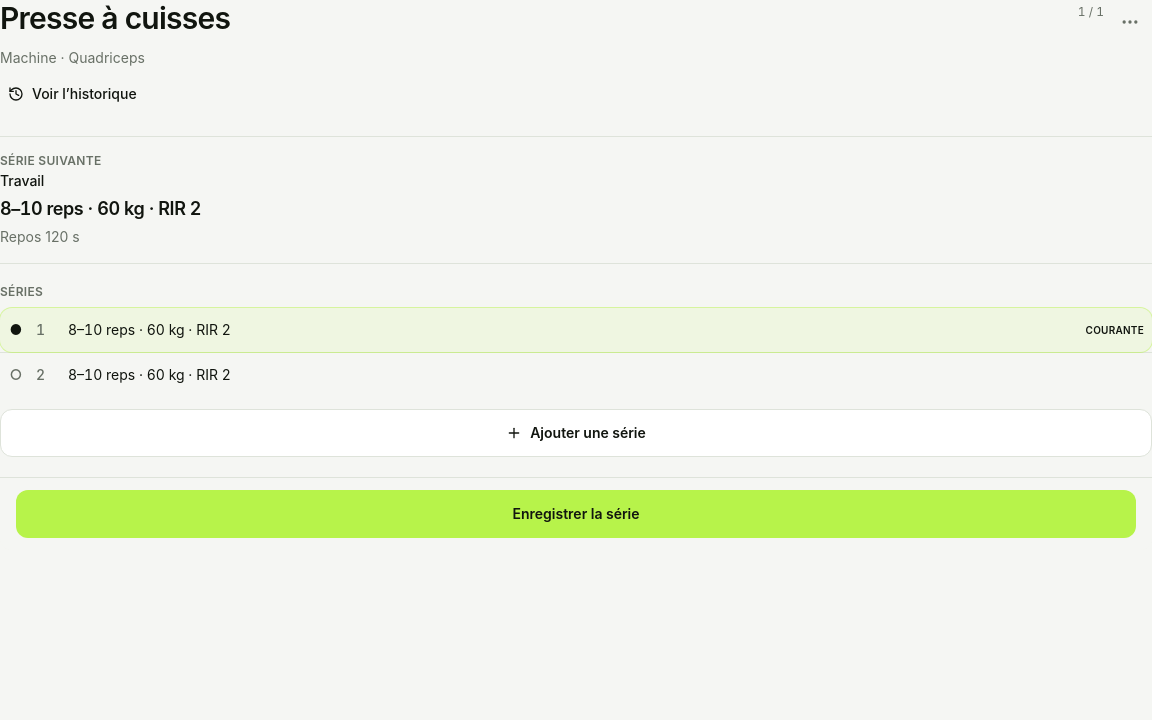
Test: Replace session exercise UI › ouvre le sheet depuis le menu et remplace l’exercice
Click the button named "Actions de l’exercice" at (1130, 22), box x1=1108 y1=0 x2=1151 y2=44
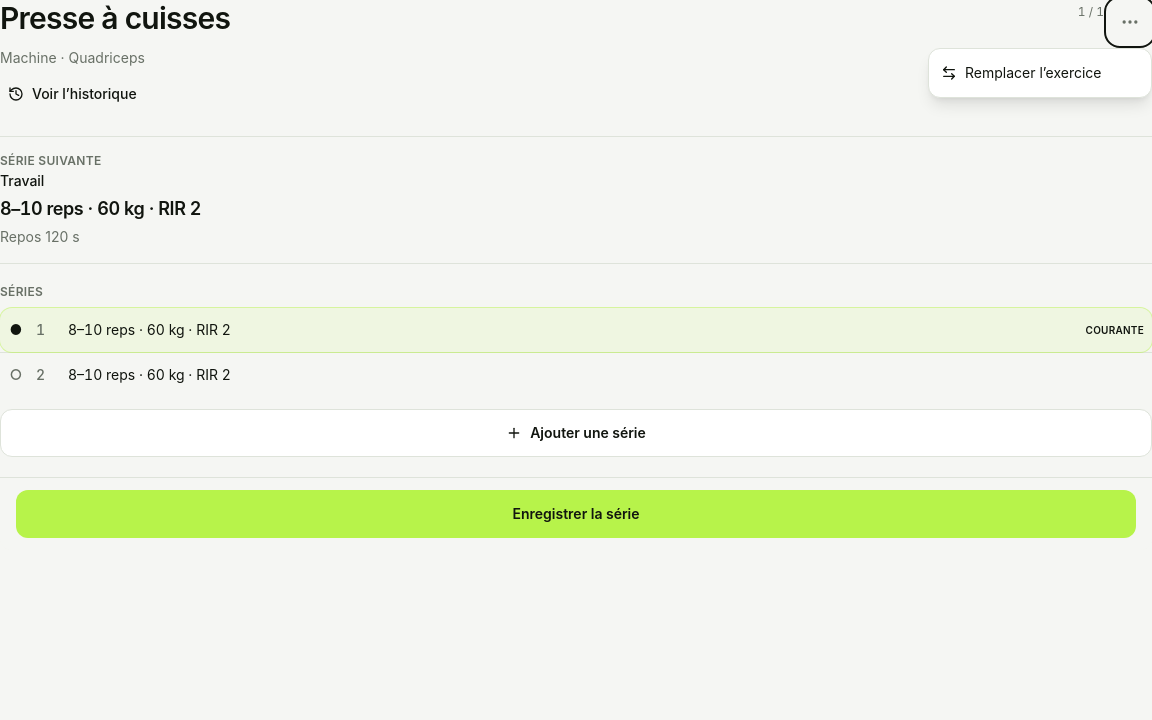
Click the menu item "Remplacer l’exercice" at (1040, 73), box x1=929 y1=53 x2=1151 y2=93
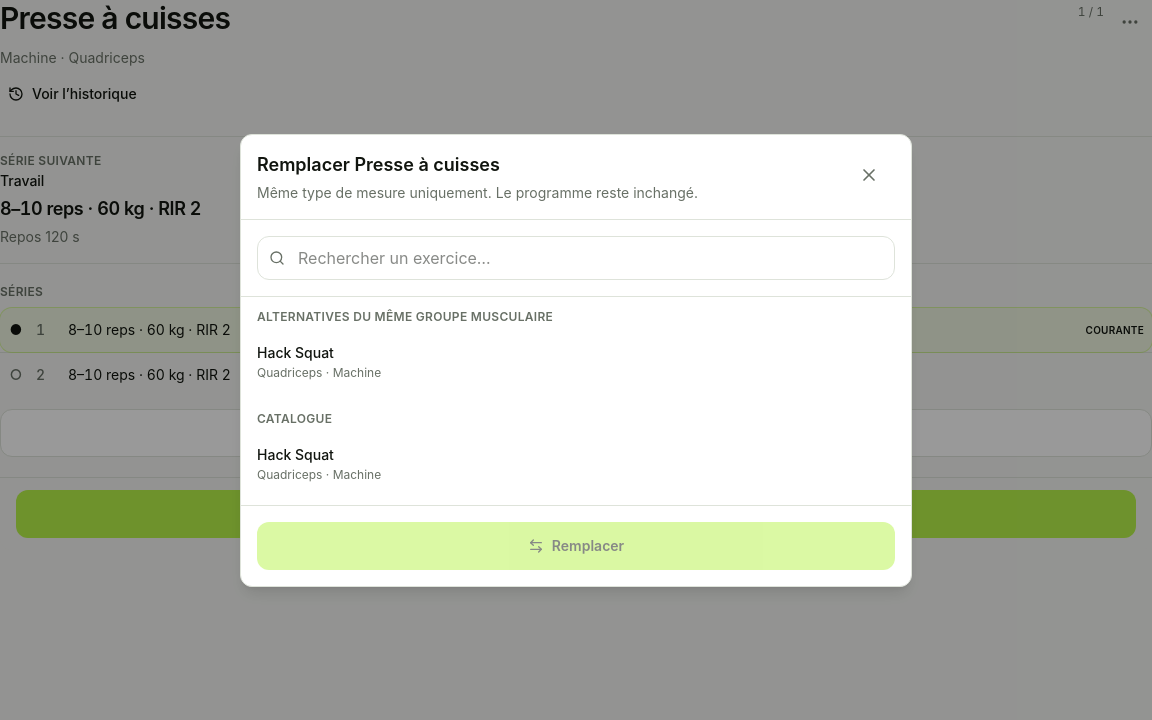
Result: the heading "Remplacer Presse à cuisses" is shown at x1=257 y1=154 x2=500 y2=174
Click the button "Hack Squat Quadriceps · Machine" below "Alternatives du même groupe musculaire" at (295, 352), box x1=257 y1=332 x2=895 y2=390
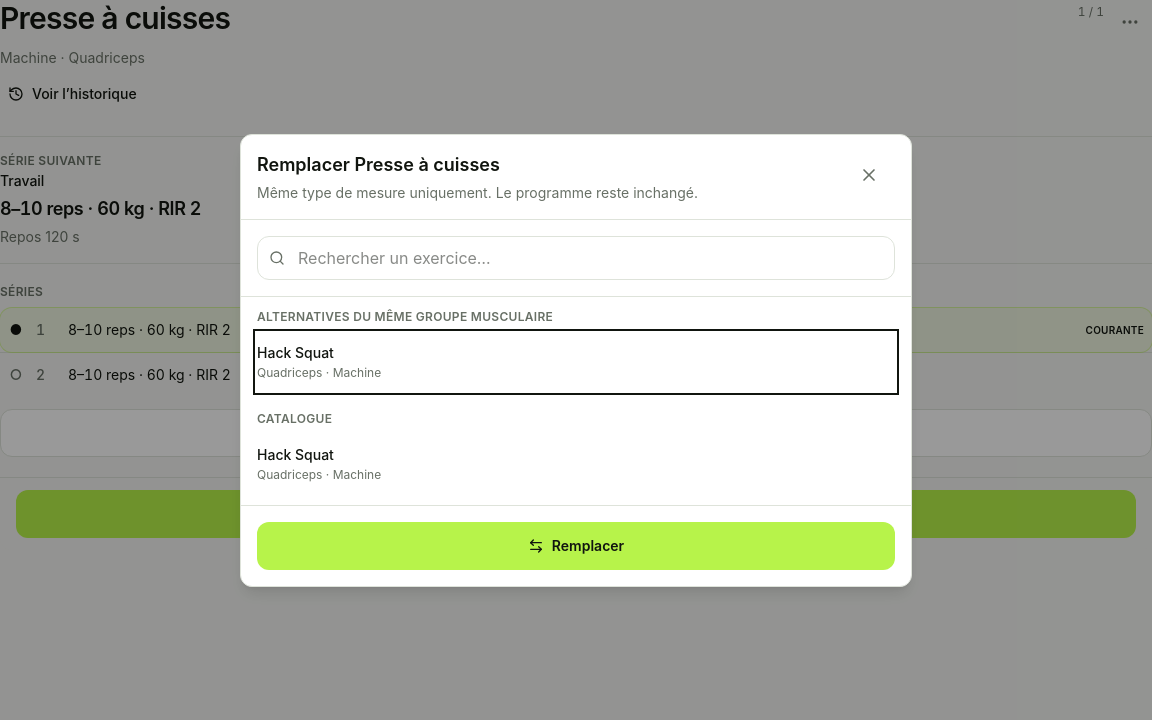
Click the button "Remplacer" at (576, 546), box x1=257 y1=522 x2=895 y2=570
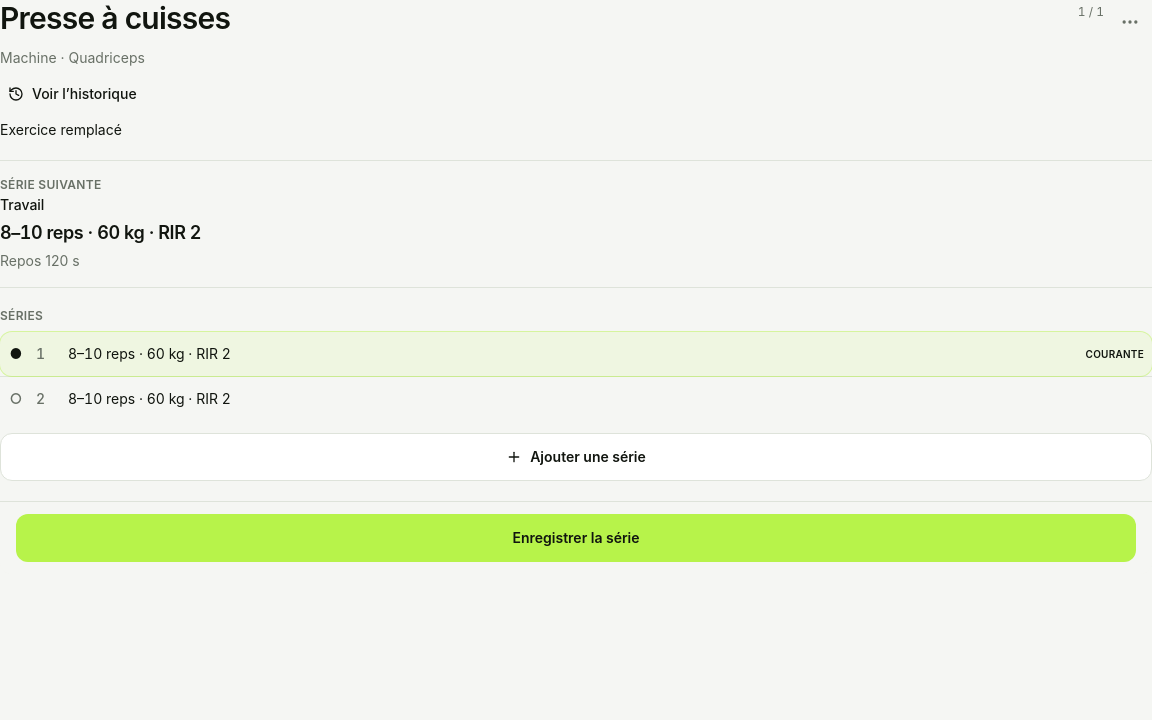
Result: the text "Exercice remplacé" is shown at x1=0 y1=121 x2=122 y2=138
